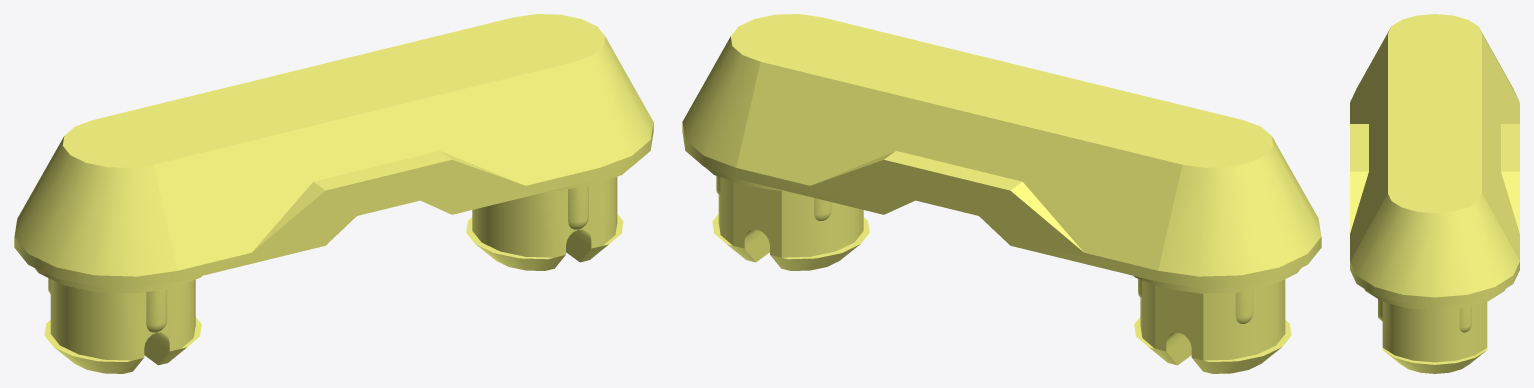
3 renders of one model, left to right at view 1: azimuth 30°, elevation 25°; view 2: azimuth 150°, elevation 25°; view 3: azimuth 270°, elevation 25°, orthographic. The views are drawn at different scales.
Visible parts, largest first — view 1: 14149.dat; view 2: 14149.dat; view 3: 14149.dat.
Part boxes in pixels (left/top/right/bottom): 14149.dat: left=14, top=14, right=653, bottom=373; 14149.dat: left=682, top=14, right=1321, bottom=373; 14149.dat: left=1350, top=14, right=1519, bottom=373.
Size of the model in its own units: 0.0232 by 0.0076 by 0.0072.
